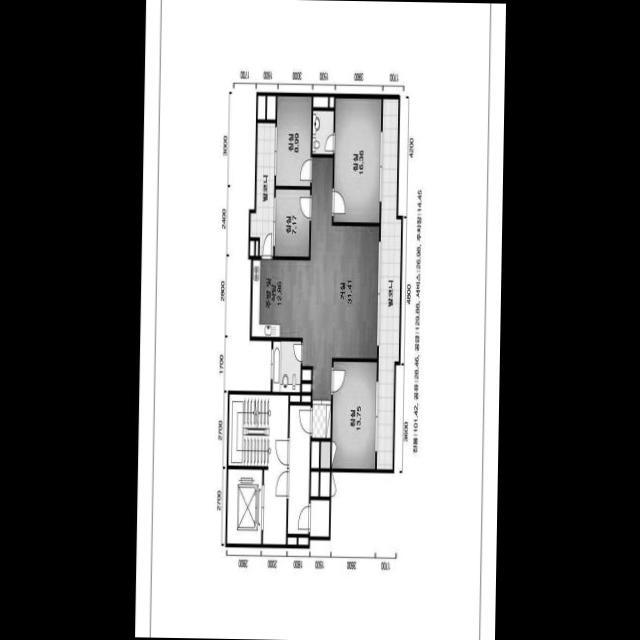background: (134, 0, 506, 640)
space_balconi: (376, 98, 401, 468), (250, 122, 275, 255)
space_bedroom: (333, 97, 381, 222), (331, 361, 376, 468), (276, 95, 311, 185), (274, 188, 310, 256)
space_elevator: (226, 468, 262, 543)
space_elevator_hall: (287, 404, 310, 533)
space_front: (311, 404, 330, 437)
space_kitchen: (251, 259, 304, 337)
space_living_room: (302, 157, 379, 399)
space_other: (310, 499, 329, 536), (320, 441, 330, 467), (320, 471, 329, 496), (311, 440, 319, 467), (266, 95, 275, 119), (310, 471, 318, 495), (257, 95, 265, 118), (313, 96, 328, 106), (302, 369, 311, 379), (301, 383, 311, 391), (249, 240, 254, 255), (287, 536, 296, 544), (298, 537, 308, 544), (290, 394, 300, 401), (301, 395, 310, 401), (329, 96, 334, 106), (255, 240, 258, 255)
space_staircase: (228, 393, 288, 544)
space_toilet: (272, 340, 301, 391), (312, 110, 333, 153)
